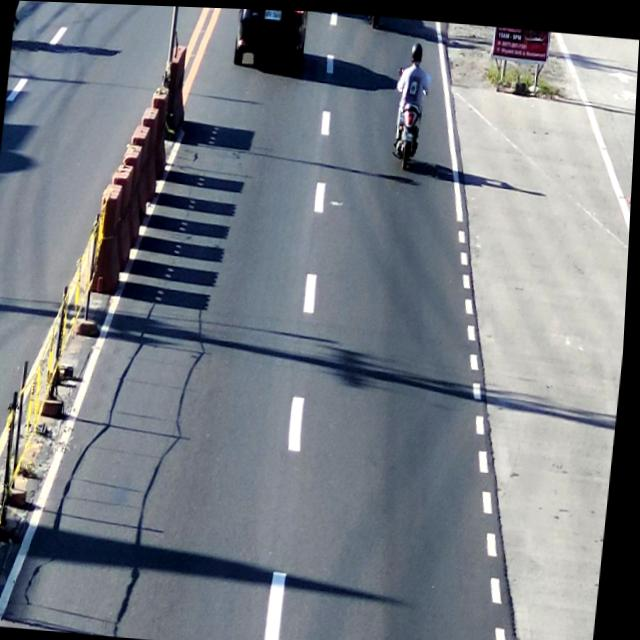Car: (234, 7, 306, 69)
License-Plate: (261, 8, 285, 20)
Motorcycle: (387, 38, 434, 173)
